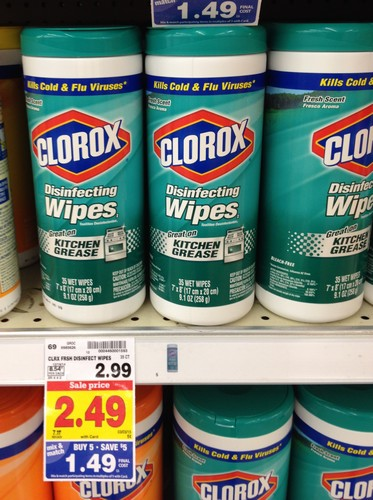Wipes: (17, 22, 148, 326), (142, 21, 270, 330), (253, 17, 370, 324), (168, 385, 297, 500), (44, 384, 168, 500), (1, 23, 42, 273), (288, 384, 372, 500), (1, 384, 56, 500), (1, 385, 56, 499), (1, 91, 28, 320)
